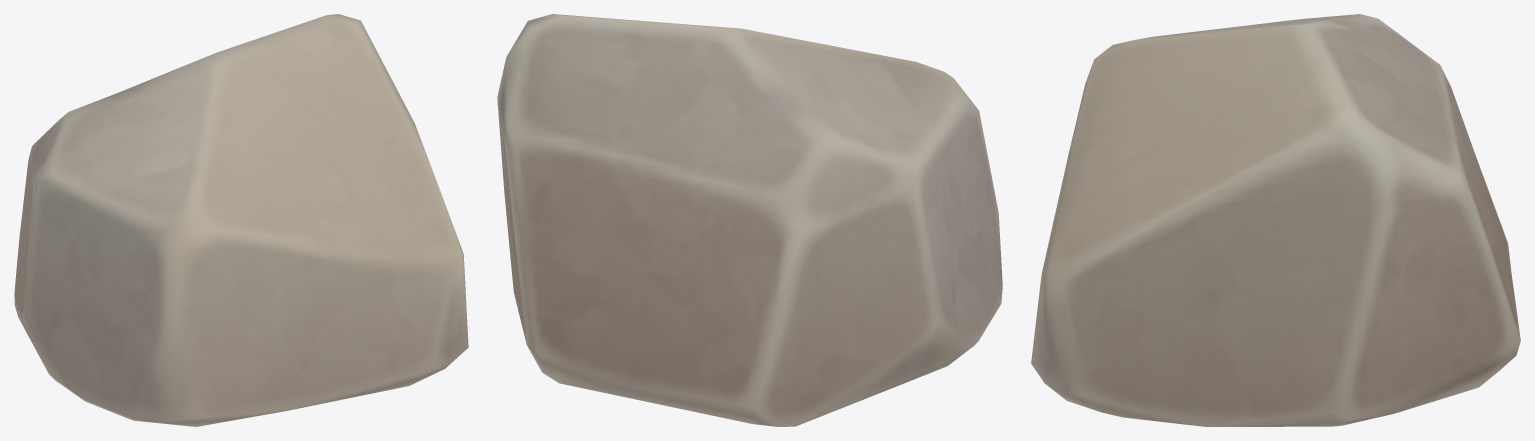
File: small_rock.glb
3 views of the same model, side by side, from view 1: azimuth 30°, elevation 25°; view 2: azimuth 150°, elevation 25°; view 3: azimuth 270°, elevation 25° (orthographic). The views are drawn at different scales.
Visible parts, largest first — view 1: Rock4_blinn3_0; view 2: Rock4_blinn3_0; view 3: Rock4_blinn3_0.
Boxes of the visible parts, x1,y1,x2,y2 form: Rock4_blinn3_0: (14, 14, 468, 426); Rock4_blinn3_0: (497, 14, 1002, 426); Rock4_blinn3_0: (1031, 14, 1520, 426).
Bounding box in the file's own units: 0.4404 × 0.3139 × 0.4421.
1 material, 1 textured.
